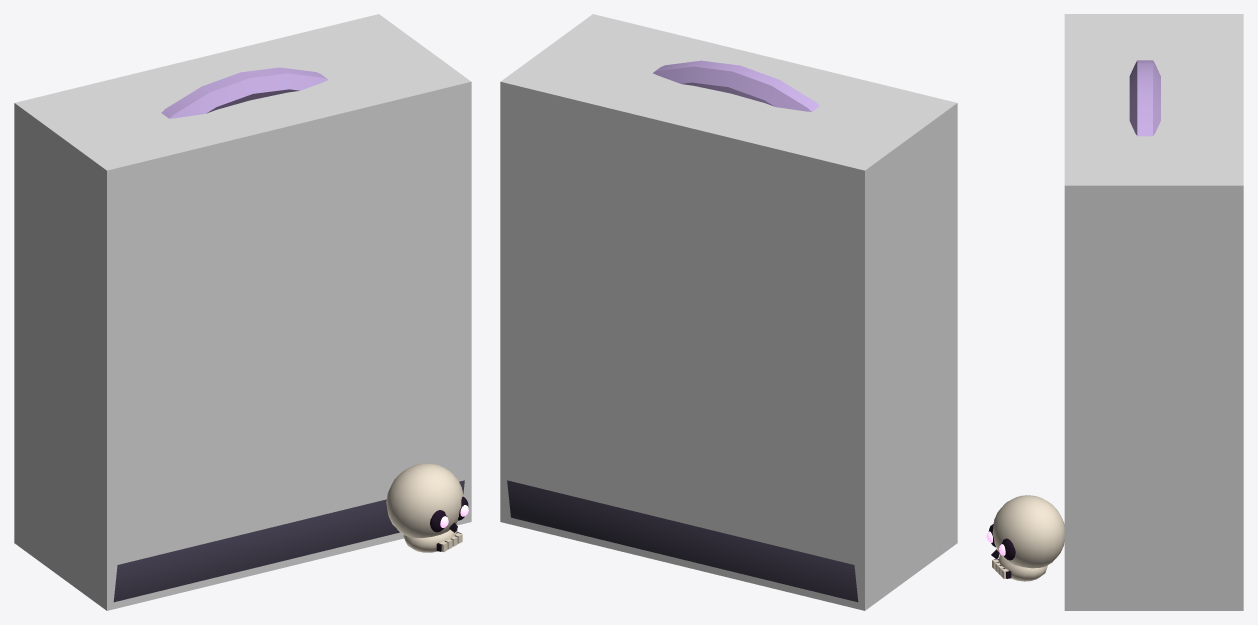
The model's file is Gravestone.fbx.
The picture shows the model from 3 angles, left to right: view 1: azimuth 30°, elevation 25°; view 2: azimuth 150°, elevation 25°; view 3: azimuth 270°, elevation 25°; orthographic projection. The views are drawn at different scales.
Visible parts, largest first — view 1: COL_Gravestone_0, Gravestone_Stone, Gravestone_Decoration; view 2: COL_Gravestone_0, Gravestone_Stone, Gravestone_Decoration; view 3: COL_Gravestone_0, Gravestone_Decoration.
Part boxes in pixels (left/top/right/bottom): COL_Gravestone_0: left=14, top=14, right=471, bottom=610; Gravestone_Stone: left=113, top=480, right=464, bottom=602; Gravestone_Decoration: left=161, top=67, right=468, bottom=552; COL_Gravestone_0: left=500, top=14, right=957, bottom=610; Gravestone_Stone: left=507, top=480, right=858, bottom=602; Gravestone_Decoration: left=653, top=60, right=819, bottom=111; COL_Gravestone_0: left=1064, top=14, right=1243, bottom=610; Gravestone_Decoration: left=986, top=60, right=1160, bottom=581.
Bounding box in the file's own units: 0.9096 × 1.1 × 0.5754.
